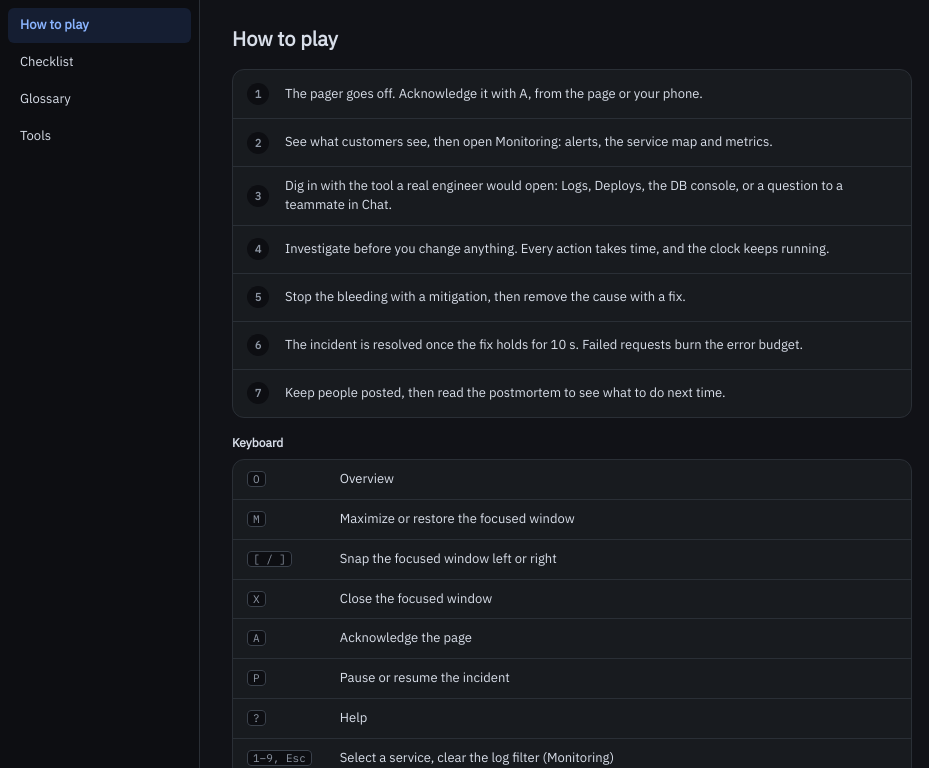
Test: HelpApp › Tools says what each app is for
Step 1. Click the button "Tools" → (100, 136), box 8,118 -> 191,153
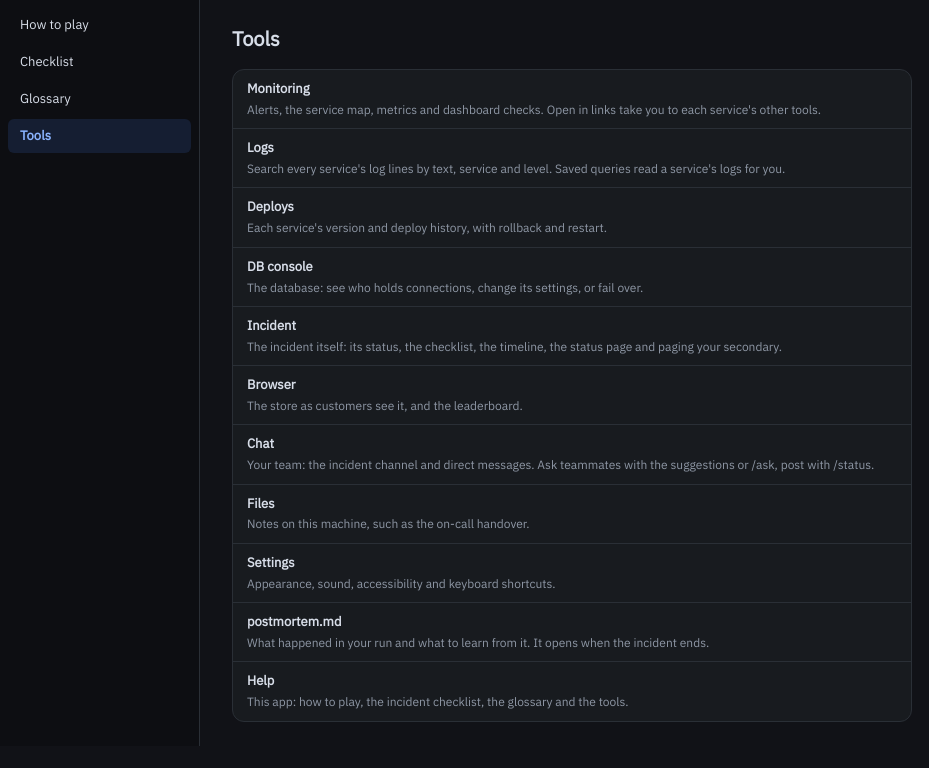
Expected: the text "Browser" is shown, 247,376 -> 296,393
Expected: the text "Files" is shown, 247,495 -> 274,512
Expected: the text "Settings" is shown, 247,554 -> 294,571
